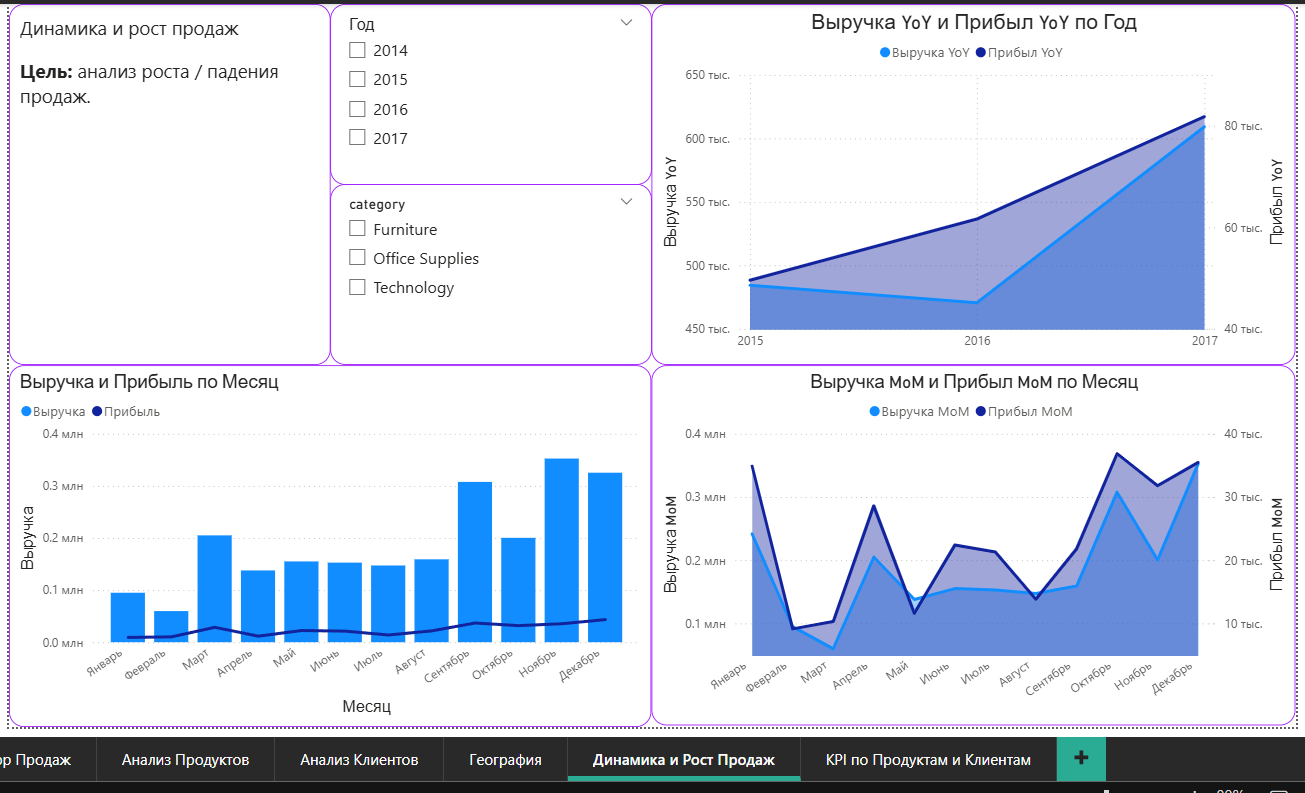

What the dashboard file says about the page in this screenshot:
{"tool":"powerbi","page":{"name":"Динамика и Рост Продаж","canvas":[1280,720],"ordinal":4},"visuals":[{"type":"areaChart","fields":{"Category":["Ready - Superstore.order_date.Изменение.Иерархия дат.Месяц"],"Y":["Meas.Выручка MoM"],"Y2":["Meas.Прибыл MoM"]},"box":[639.5,360,640.8,358.7],"z":0},{"type":"areaChart","fields":{"Category":["Ready - Superstore.order_date.Изменение.Иерархия дат.Год"],"Y":["Meas.Выручка YoY"],"Y2":["Meas.Прибыл YoY"]},"box":[639.5,0,640.8,359.5],"z":1000},{"type":"lineStackedColumnComboChart","fields":{"Category":["Ready - Superstore.order_date.Изменение.Иерархия дат.Месяц"],"Y":["Meas.Выручка"],"Y2":["Meas.Прибыль"]},"box":[0,359.8,638.8,359.8],"z":2000},{"type":"slicer","fields":{"Values":["Ready - Superstore.order_date.Изменение.Иерархия дат.Год"]},"box":[319.7,0,319.7,179.6],"z":3000},{"type":"slicer","fields":{"Values":["Ready - Superstore.category"]},"box":[319.7,179.6,319.7,179.6],"z":4000},{"type":"textbox","box":[0,0,319.7,359.2],"z":5000}]}

Visuals, with their boxes on the page's 1280x720 design canvas (x1, y1, x2, y2). These are canvas units, not pixel positions in the 1305x793 screenshot, which may show the page scaled, cropped or inside an application window:
areaChart - Ready - Superstore.order_date.Изменение.Иерархия дат.Месяц x Meas.Выручка MoM: Rect(640, 360, 1280, 719)
areaChart - Ready - Superstore.order_date.Изменение.Иерархия дат.Год x Meas.Выручка YoY: Rect(640, 0, 1280, 360)
lineStackedColumnComboChart - Ready - Superstore.order_date.Изменение.Иерархия дат.Месяц x Meas.Выручка: Rect(0, 360, 639, 720)
slicer - Ready - Superstore.order_date.Изменение.Иерархия дат.Год: Rect(320, 0, 639, 180)
slicer - Ready - Superstore.category: Rect(320, 180, 639, 359)
textbox: Rect(0, 0, 320, 359)
